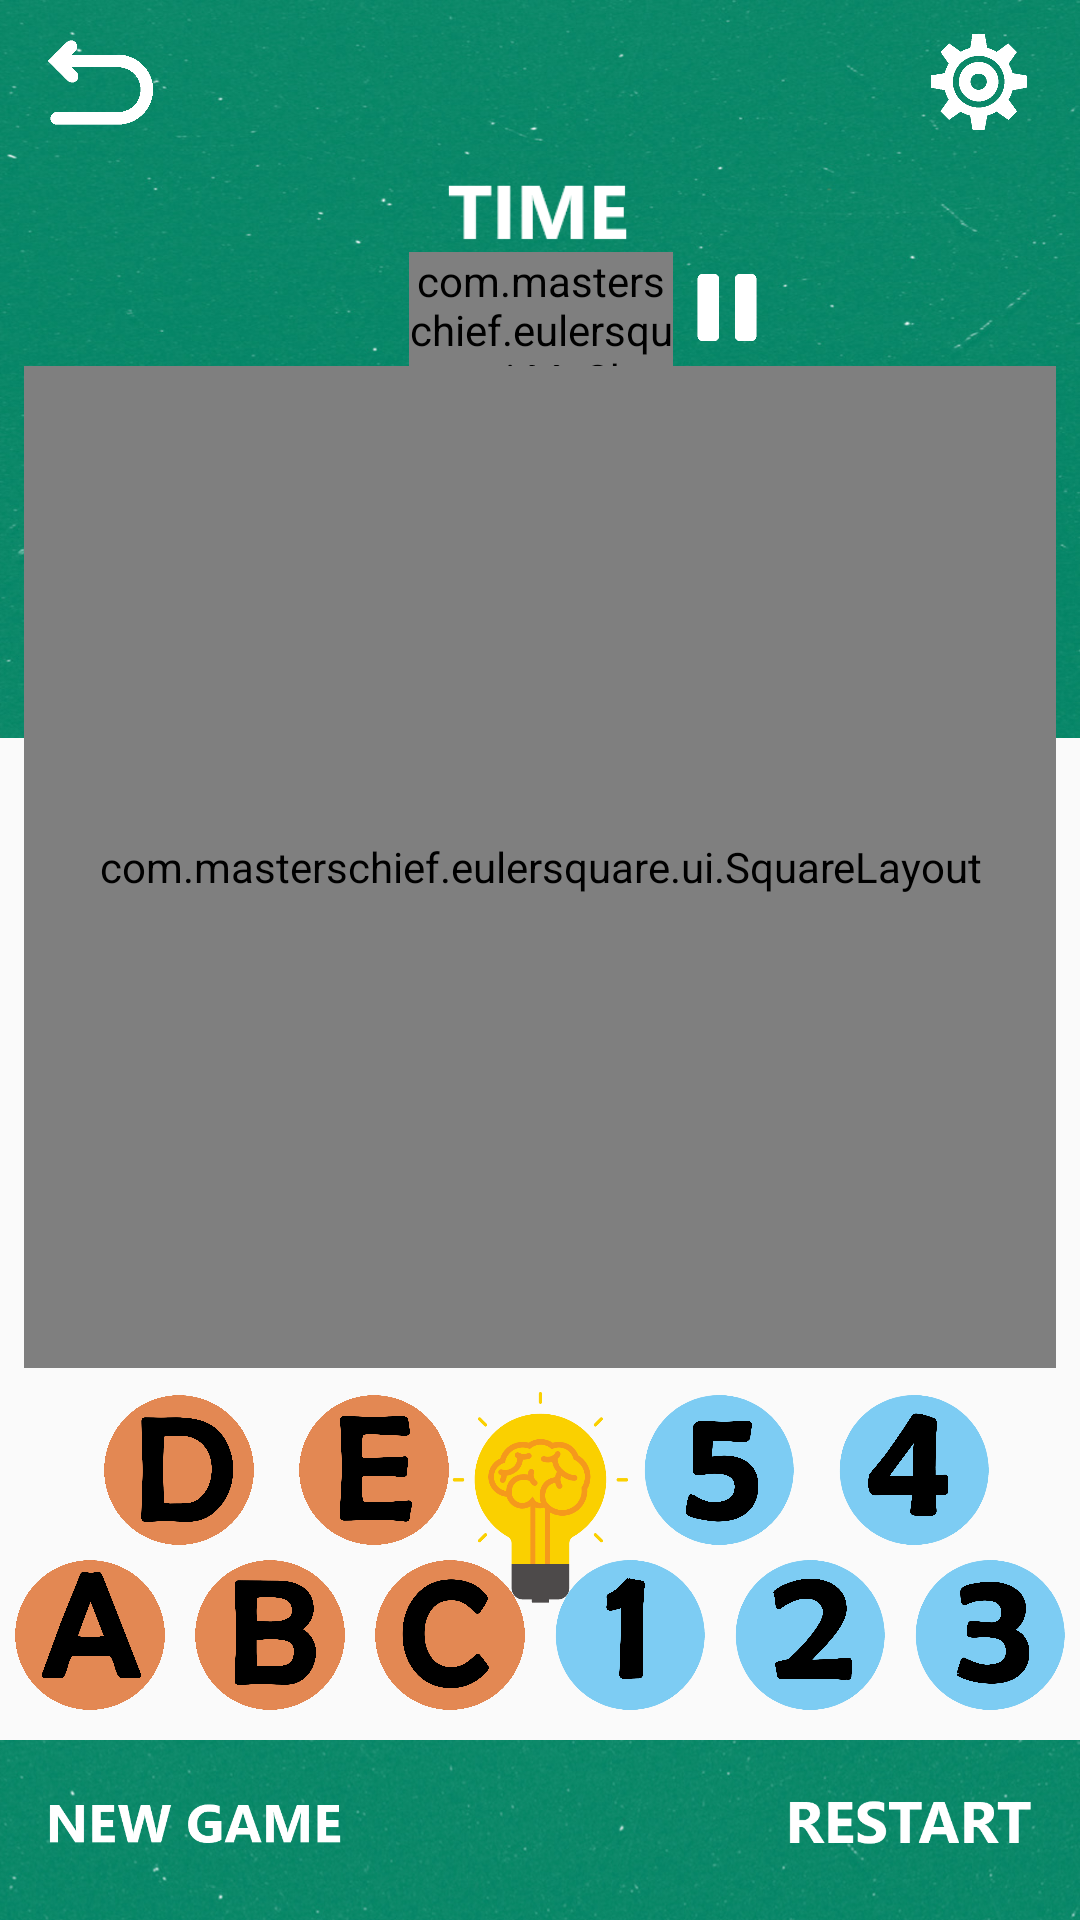

Icons on this 1080 x 1920 Android screen, each with the point to tap as point (x, y):
arrow back: point (100, 81)
hint: point (540, 1497)
pause: point (722, 302)
settings: point (979, 82)
